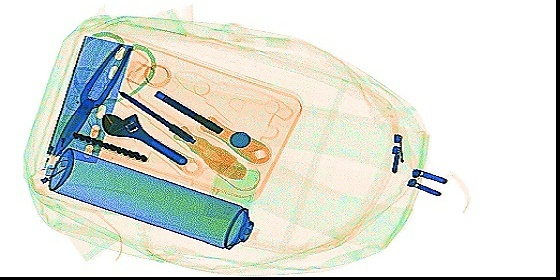lighter: (41, 112, 78, 176)
pressure: (48, 146, 256, 250)
scissors: (51, 28, 156, 157)
